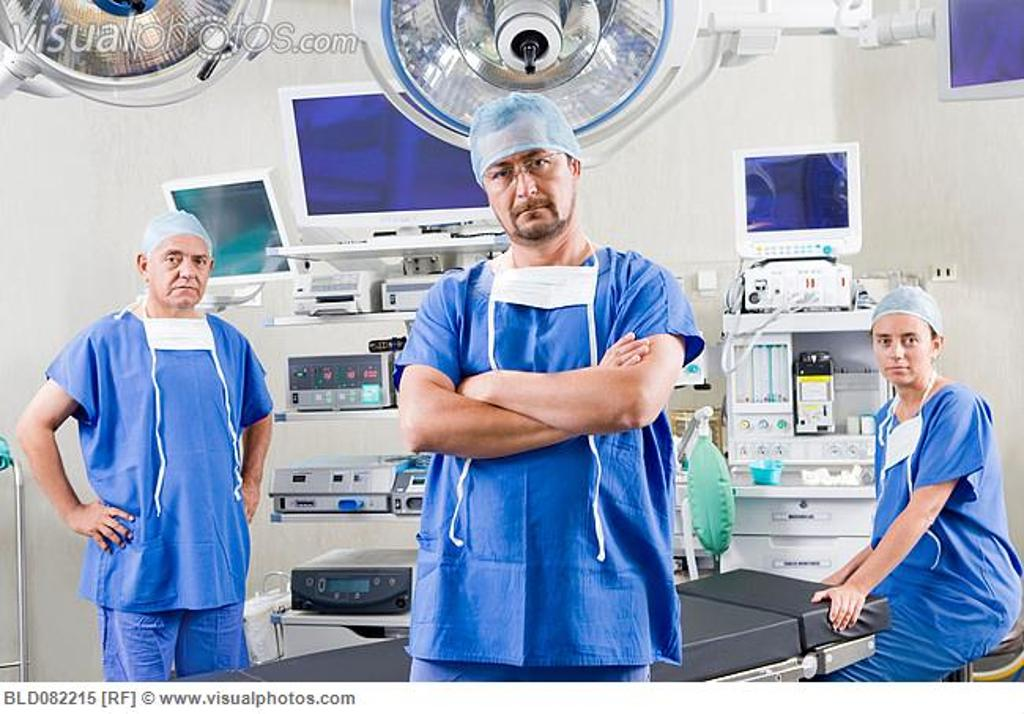face: (474, 135, 568, 240), (148, 236, 210, 304), (872, 313, 932, 383)
